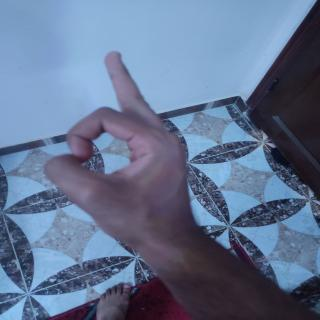Space: (44, 42, 206, 246)
